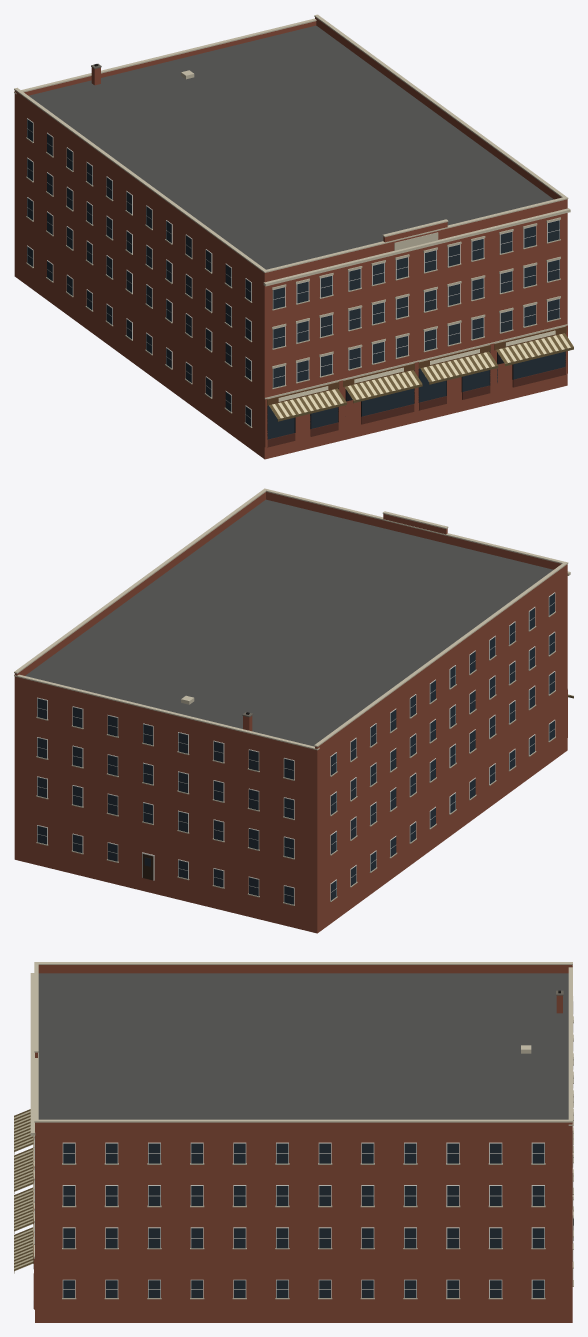
The model's file is pfeifer-brothers-department-store.glb.
3 renders of one model, top to bottom at view 1: azimuth 30°, elevation 25°; view 2: azimuth 150°, elevation 25°; view 3: azimuth 270°, elevation 25°, orthographic. The views are drawn at different scales.
Parts seen in each view (by area): view 1: kit-pfeifer-brothers-department-store; view 2: kit-pfeifer-brothers-department-store; view 3: kit-pfeifer-brothers-department-store.
Boxes of the visible parts, <box> form: kit-pfeifer-brothers-department-store: <box>14,14,573,459</box>; kit-pfeifer-brothers-department-store: <box>14,488,573,933</box>; kit-pfeifer-brothers-department-store: <box>14,962,573,1322</box>.
Bounding box in the file's own units: 29.2 × 18.1 × 43.21.
